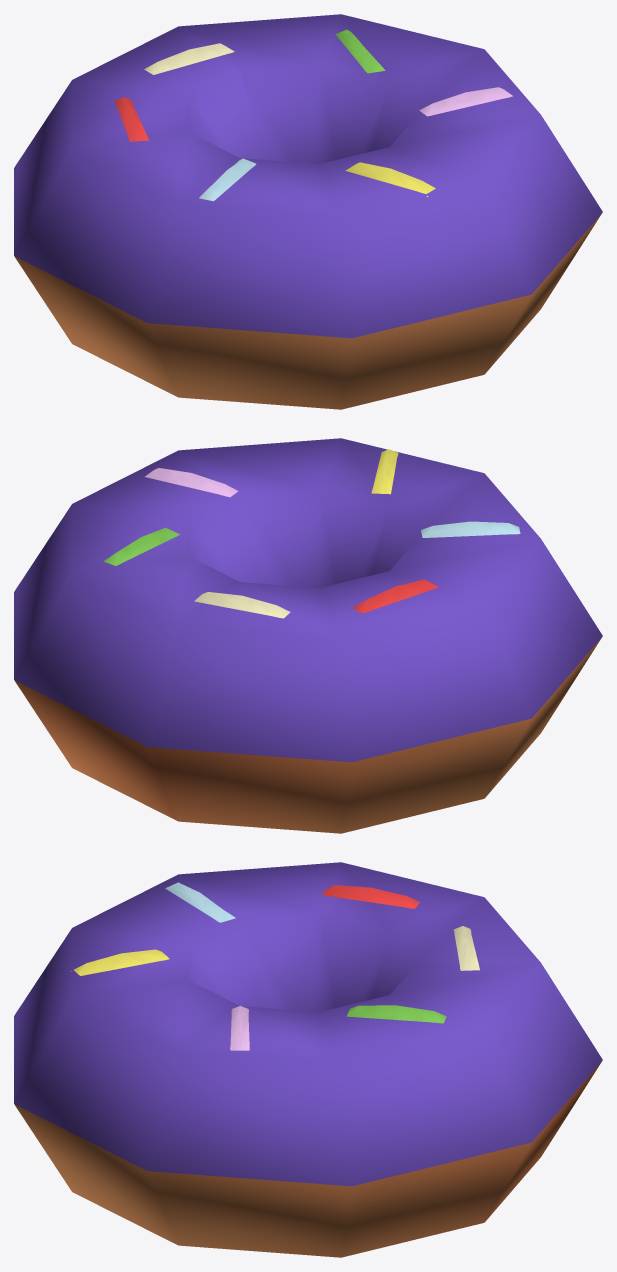
Rendered from Doughnut_B.FBX.
The picture shows the model from 3 angles, top to bottom: view 1: azimuth 30°, elevation 25°; view 2: azimuth 150°, elevation 25°; view 3: azimuth 270°, elevation 25°; orthographic projection.
Parts seen in each view (by area): view 1: Doughnut; view 2: Doughnut; view 3: Doughnut.
Boxes of the visible parts, x1,y1,x2,y2 form: Doughnut: [14, 14, 602, 409]; Doughnut: [14, 438, 602, 833]; Doughnut: [14, 862, 602, 1257].
Size of the model in its own units: 52.77 by 19.96 by 51.97.
